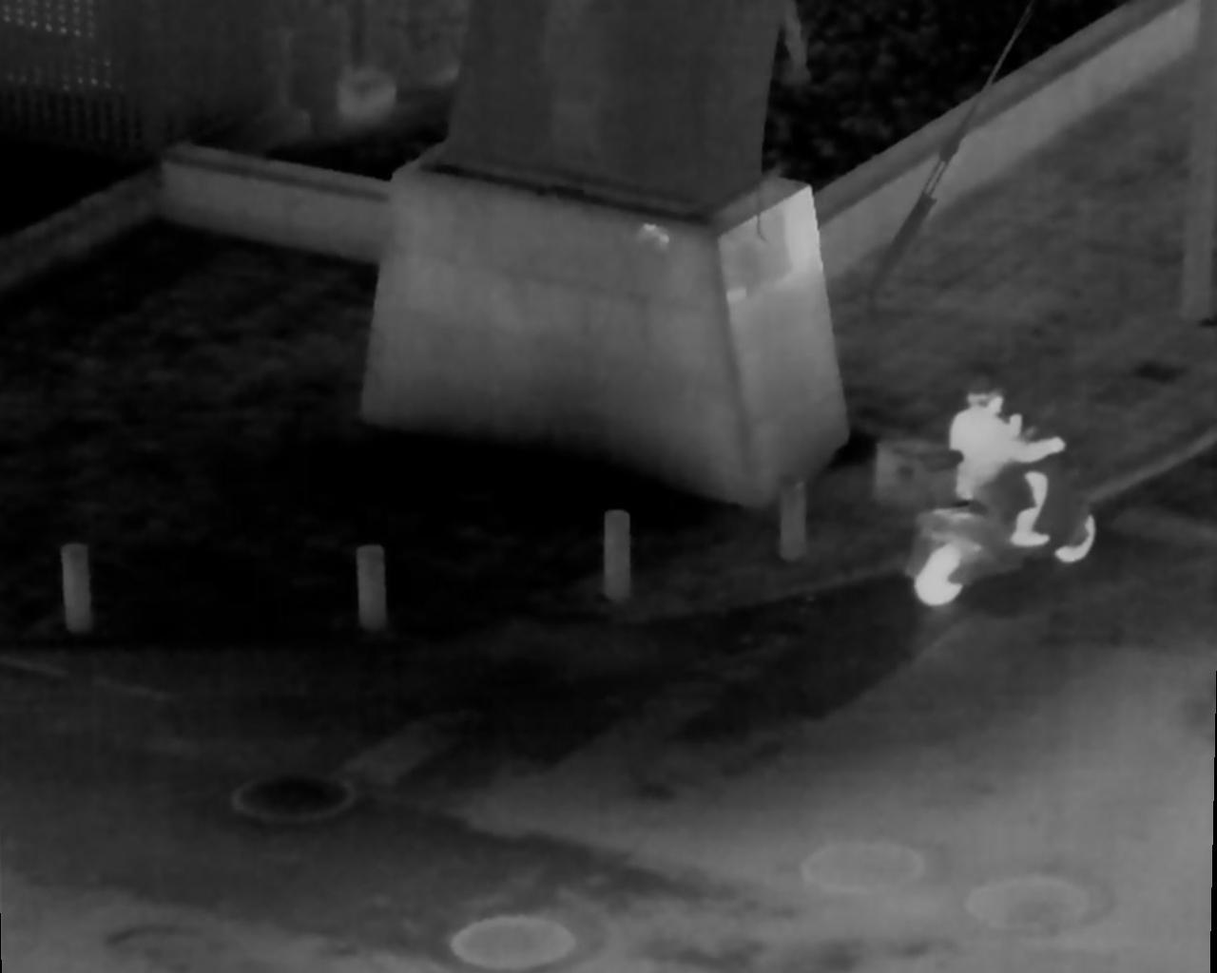person: (942, 374, 1060, 576)
